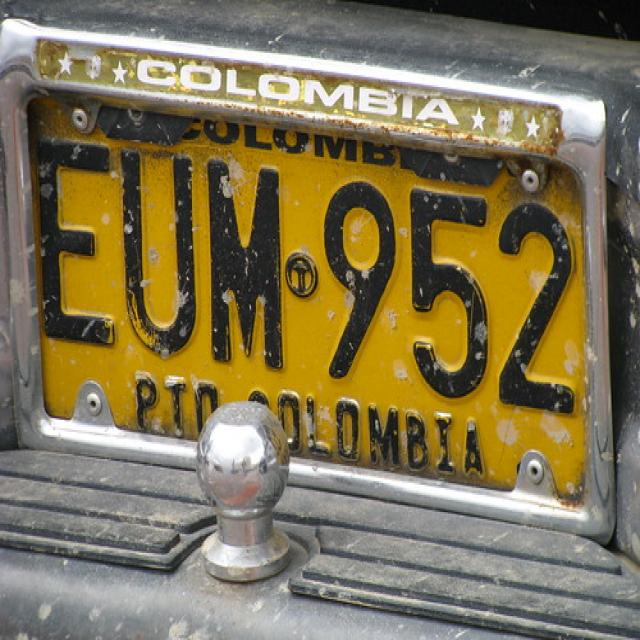placas: (34, 115, 586, 429)
